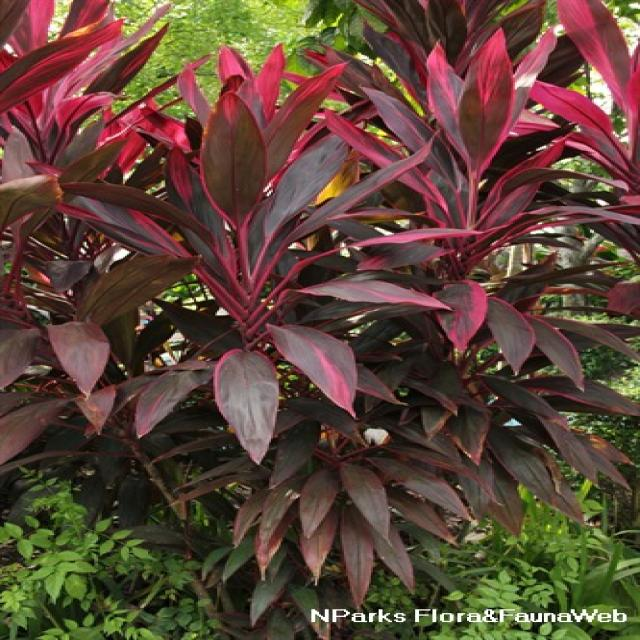Ti: (84, 88, 427, 466), (286, 0, 630, 324), (0, 3, 190, 290)
